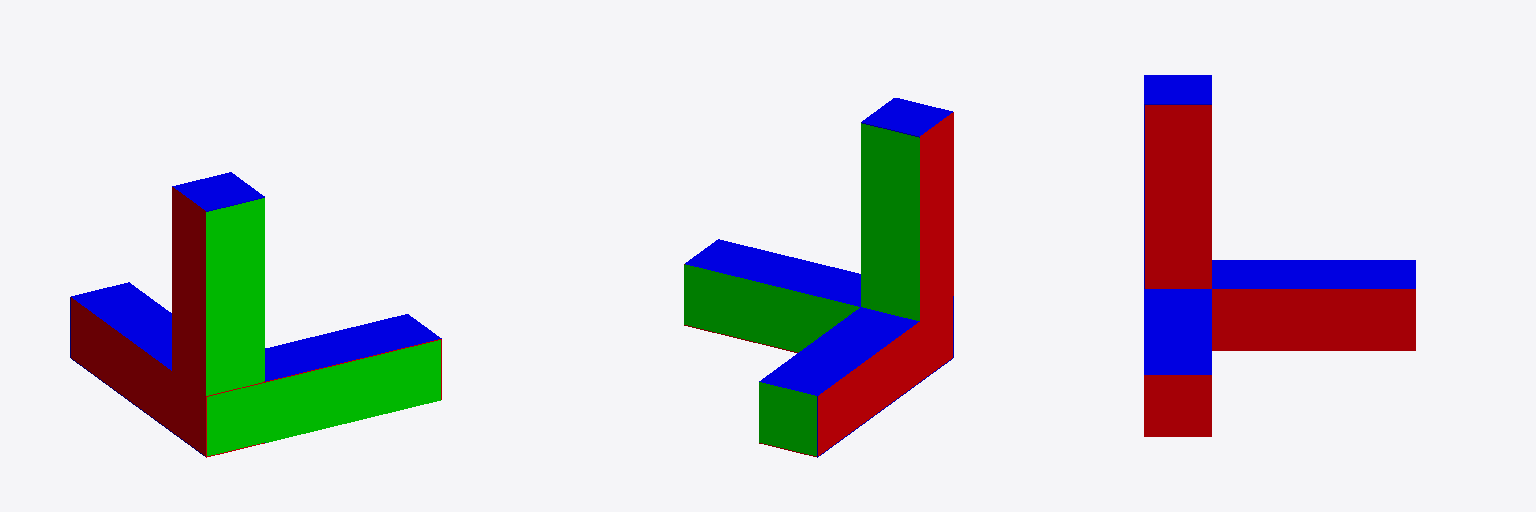
3 views of the same model, side by side, from view 1: azimuth 30°, elevation 25°; view 2: azimuth 150°, elevation 25°; view 3: azimuth 270°, elevation 25° (orthographic).
Parts seen in each view (by area): view 1: Cube; view 2: Cube; view 3: Cube.
Part boxes in pixels (x1,y1,x2,y2): Cube: (70, 172, 441, 457); Cube: (684, 98, 953, 457); Cube: (1144, 75, 1415, 436).
Size of the model in its own units: 4 by 4 by 4.
1 materials, 1 textured.